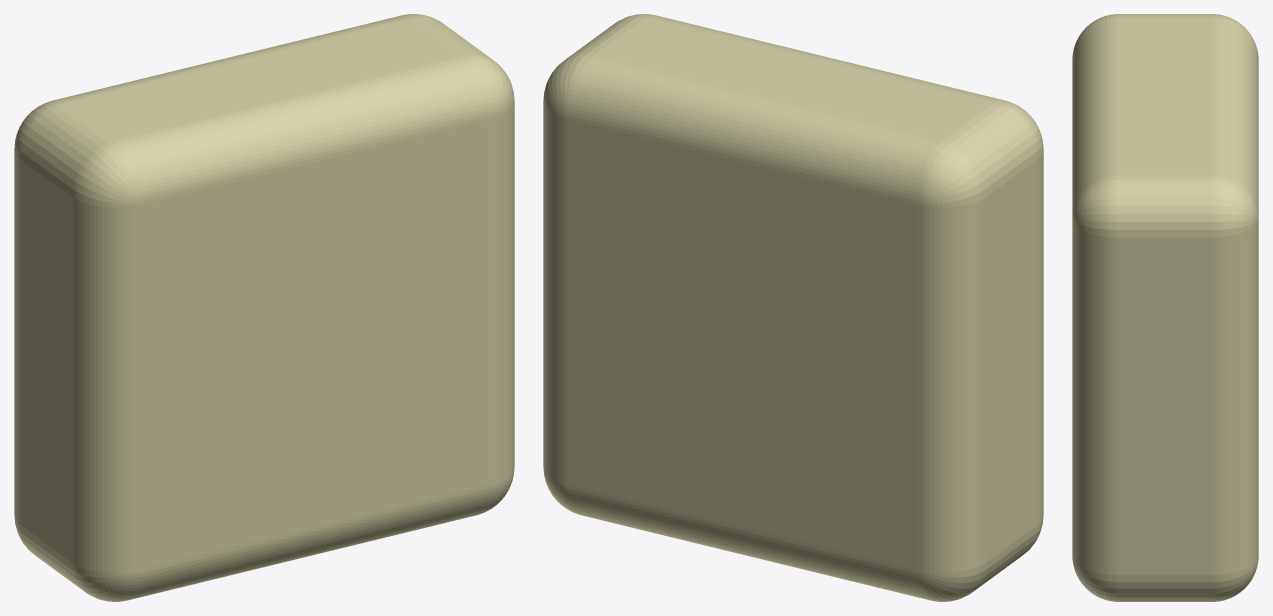
Rendered from minkowski_sum.glb.
The picture shows the model from 3 angles, left to right: view 1: azimuth 30°, elevation 25°; view 2: azimuth 150°, elevation 25°; view 3: azimuth 270°, elevation 25°; orthographic projection. The views are drawn at different scales.
Visible parts, largest first — view 1: geometry_0; view 2: geometry_0; view 3: geometry_0.
Part boxes in pixels (bbox=[...]): geometry_0: bbox=[14, 14, 514, 601]; geometry_0: bbox=[543, 14, 1043, 601]; geometry_0: bbox=[1072, 14, 1258, 601].
Size of the model in its own units: 25 by 25 by 10.
